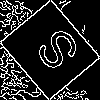S: (25, 24, 83, 80)
